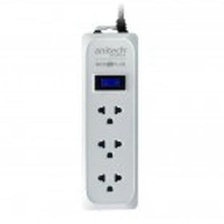three_eye_plug: (79, 27, 141, 212)
